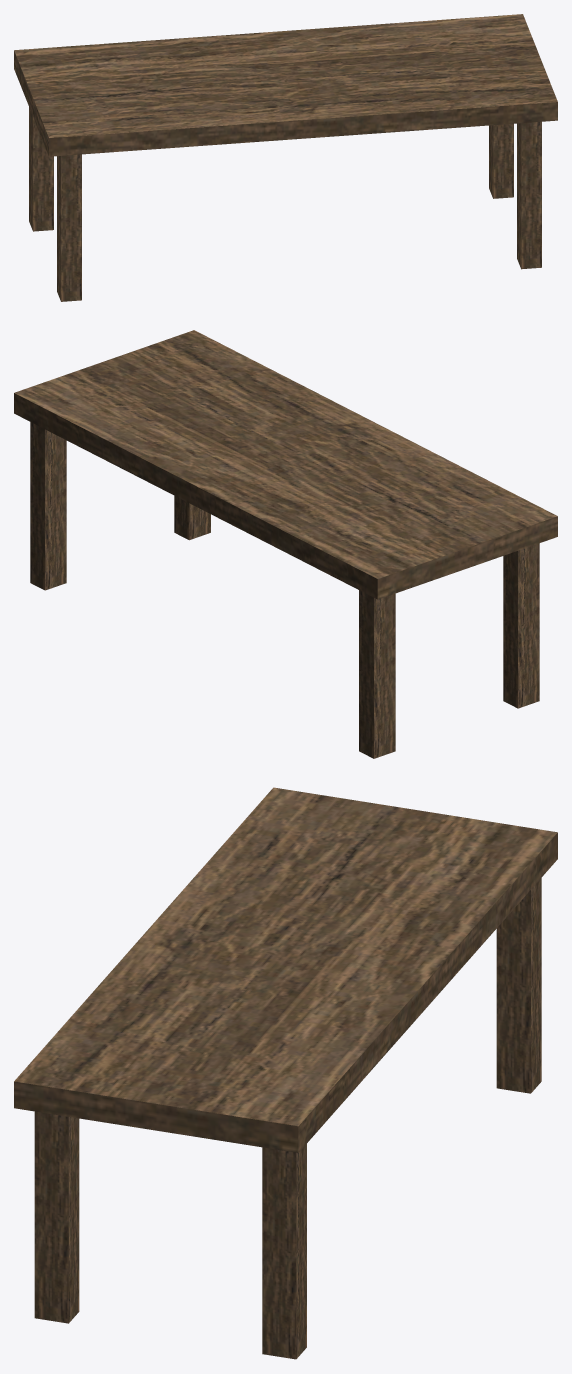
File: SM_Table00 (1).fbx
3 views of the same model, one above another, from view 1: azimuth 30°, elevation 25°; view 2: azimuth 150°, elevation 25°; view 3: azimuth 270°, elevation 25° (orthographic). The views are drawn at different scales.
Parts seen in each view (by area): view 1: SM_Table00 (1); view 2: SM_Table00 (1); view 3: SM_Table00 (1).
Part boxes in pixels (x1,y1,x2,y2): SM_Table00 (1): [14, 14, 557, 301]; SM_Table00 (1): [14, 330, 557, 758]; SM_Table00 (1): [14, 787, 557, 1359].
Bounding box in the file's own units: 2.8 × 0.935 × 1.9.
1 material, 1 textured.
